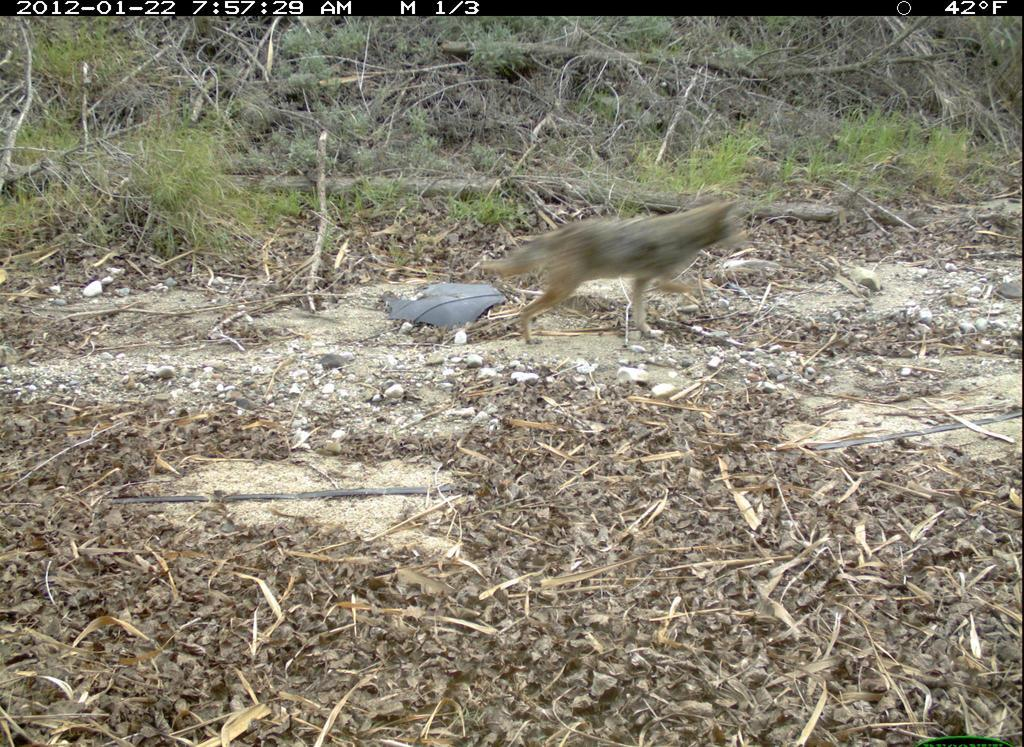coyote: (481, 195, 756, 344)
